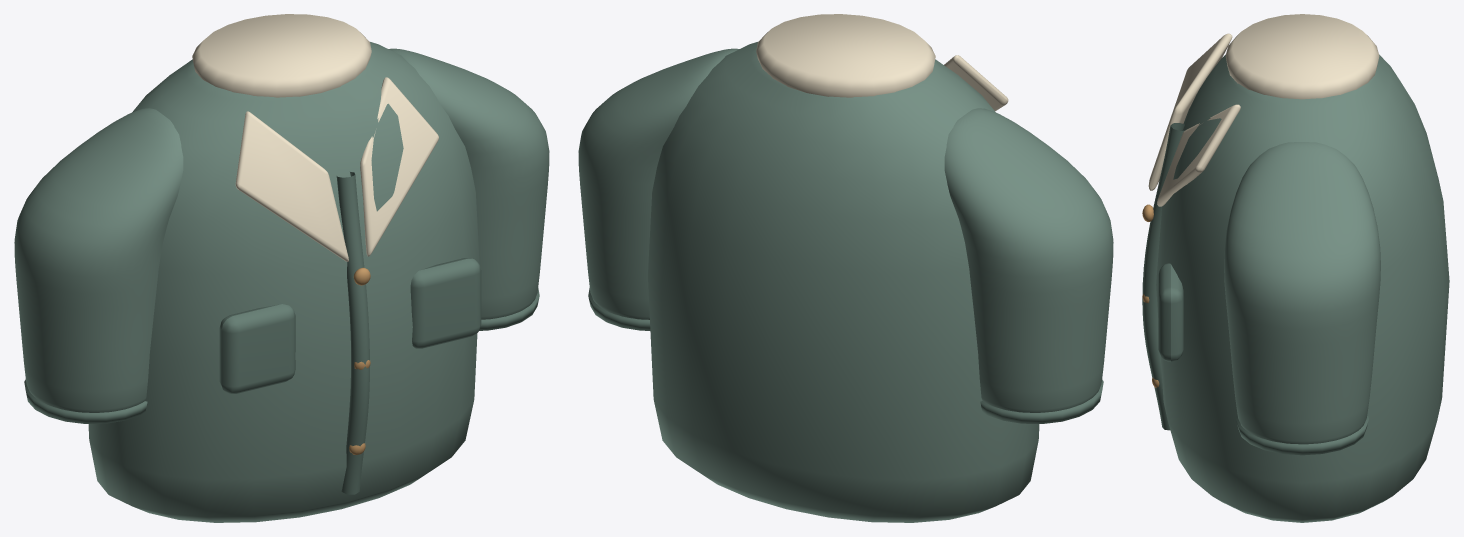
File: scout.glb
The picture shows the model from 3 angles, left to right: view 1: azimuth 30°, elevation 25°; view 2: azimuth 150°, elevation 25°; view 3: azimuth 270°, elevation 25°; orthographic projection. The views are drawn at different scales.
Visible parts, largest first — view 1: garmentBody, sleeveClothL, sleeveClothR, collar, lapel-1, pocket-1, placket, pocket1, lapel1, cuffL, cuffR; view 2: garmentBody, sleeveClothL, sleeveClothR, collar, cuffL, lapel-1, cuffR; view 3: garmentBody, sleeveClothR, collar, placket, pocket1, lapel-1, lapel1, cuffR.
Part boxes in pixels (x1,y1,x2,y2): garmentBody: (88, 42, 479, 522); sleeveClothL: (14, 108, 183, 412); sleeveClothR: (389, 48, 549, 319); collar: (192, 14, 371, 97); lapel-1: (235, 111, 348, 261); pocket-1: (219, 304, 295, 393); placket: (336, 172, 369, 494); pocket1: (410, 258, 481, 348); lapel1: (360, 77, 438, 256); cuffL: (24, 379, 147, 423); cuffR: (479, 288, 539, 330); garmentBody: (648, 42, 1039, 522); sleeveClothL: (944, 108, 1113, 412); sleeveClothR: (578, 48, 739, 319); collar: (756, 14, 935, 97); cuffL: (980, 379, 1103, 423); lapel-1: (944, 55, 1008, 111); cuffR: (588, 288, 650, 330); garmentBody: (1156, 54, 1449, 522); sleeveClothR: (1224, 142, 1380, 444); collar: (1225, 14, 1379, 99); placket: (1142, 123, 1184, 430); pocket1: (1158, 263, 1183, 361); lapel-1: (1148, 33, 1232, 190); lapel1: (1157, 104, 1240, 206); cuffR: (1235, 414, 1368, 455).
Bounding box in the file's own units: 0.8329 × 0.652 × 0.451.
